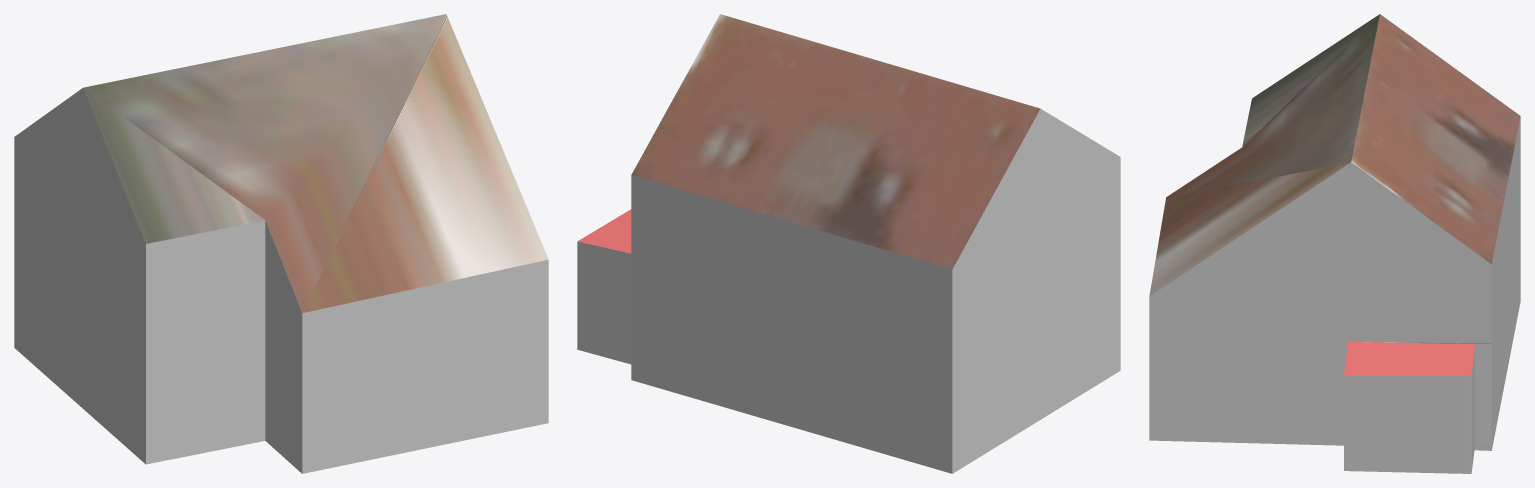
The model's file is DEBW_0010007Txdd.gltf.
3 views of the same model, side by side, from view 1: azimuth 30°, elevation 25°; view 2: azimuth 150°, elevation 25°; view 3: azimuth 270°, elevation 25° (orthographic). The views are drawn at different scales.
Visible parts, largest first — view 1: Z_UP; view 2: Z_UP; view 3: Z_UP.
Boxes of the visible parts, bbox=[...] form: Z_UP: bbox=[14, 14, 548, 473]; Z_UP: bbox=[577, 14, 1120, 473]; Z_UP: bbox=[1149, 14, 1520, 473].
Size of the model in its own units: 15.8 by 11.16 by 13.24.
Materials: 3 (1 with a texture image).
